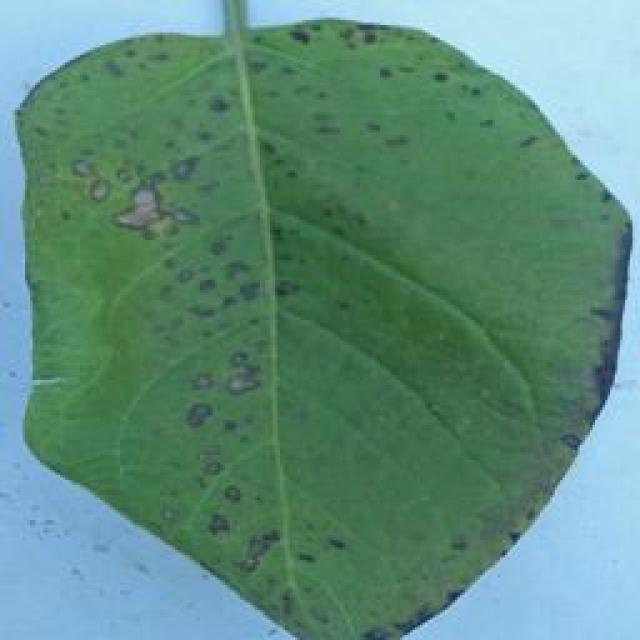Potato_Early_Blight: (15, 15, 640, 637)
